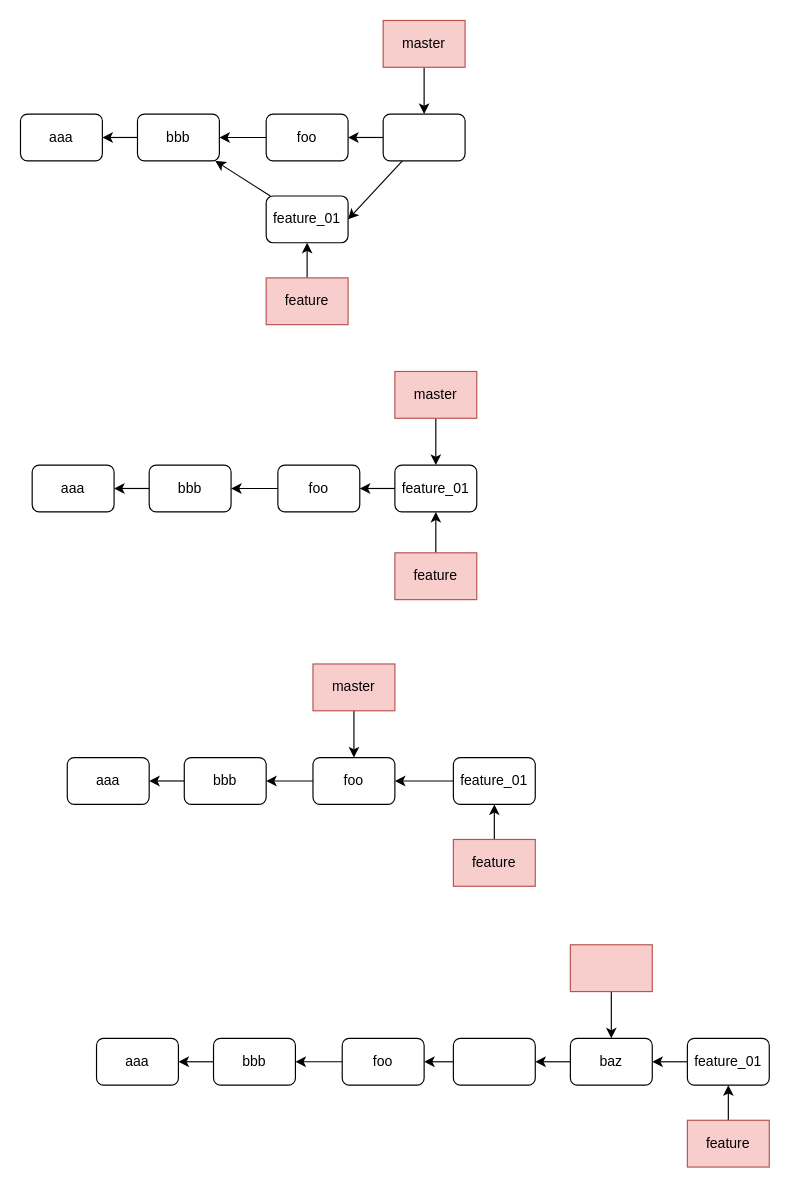
Some shapes in this 790 by 1188 pixel diagram are drawn without their labels. Each missing label, with the centre of its shape:
bar: (493,1061)
dev: (610,968)
merge: (423,137)
